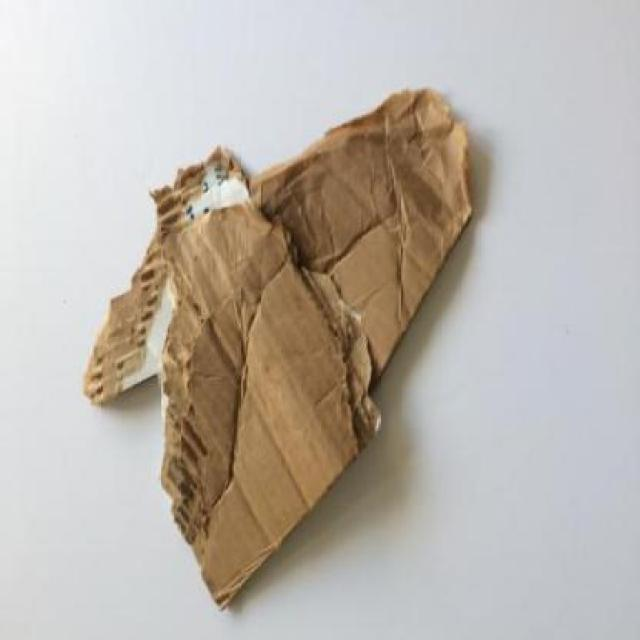box: (68, 66, 507, 425), (111, 139, 397, 629)
